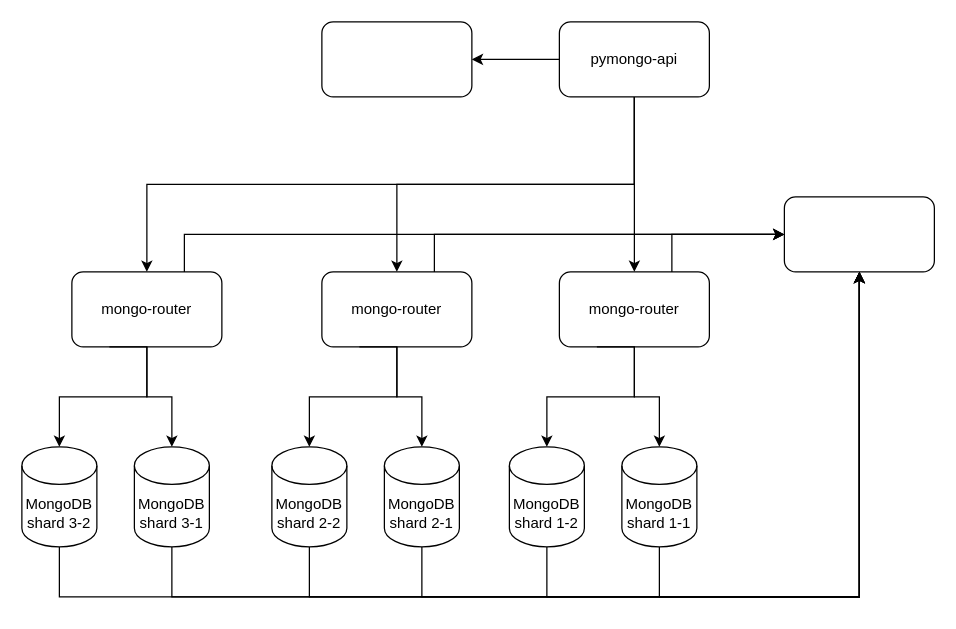
The diagram is 956 pixels wide and 629 high, and some of its shapes have lost their labels. Each missing label, with the centre of its shape:
configSrv: point 858,234
Redis: point 396,59
